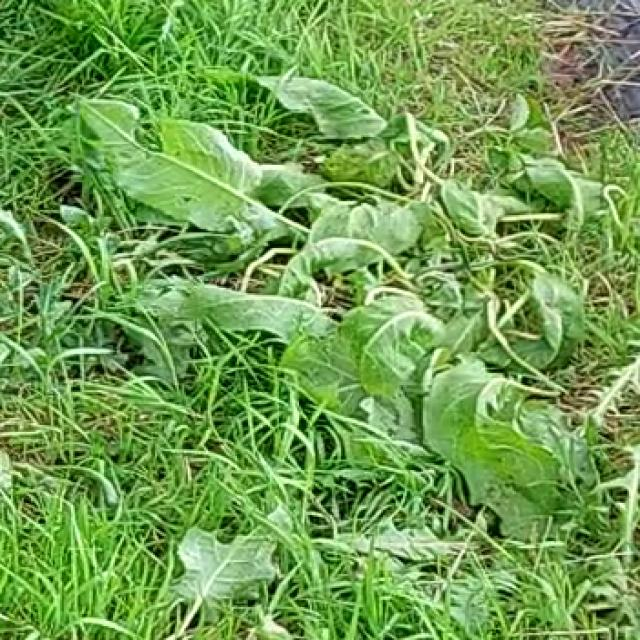organic waste: (122, 57, 544, 456)
